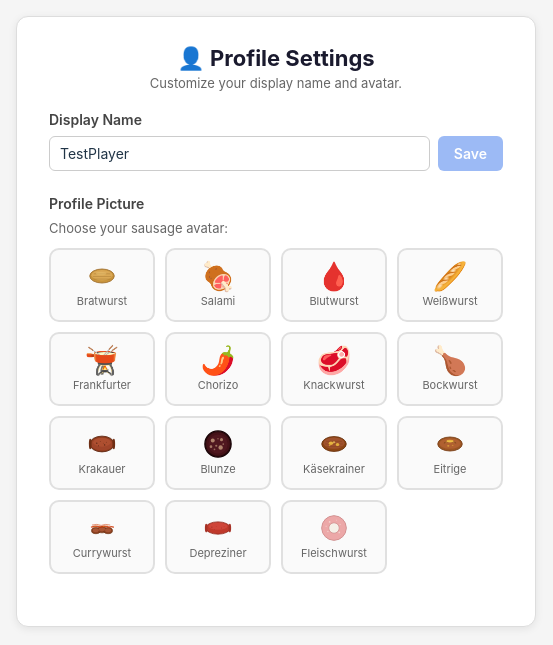
Test: ProfileSettingsScreen › enables save button after editing the name
The image size is (553, 645).
Replace the text in the field named "display name" with "NewName" at (239, 154), box x1=49 y1=136 x2=430 y2=171
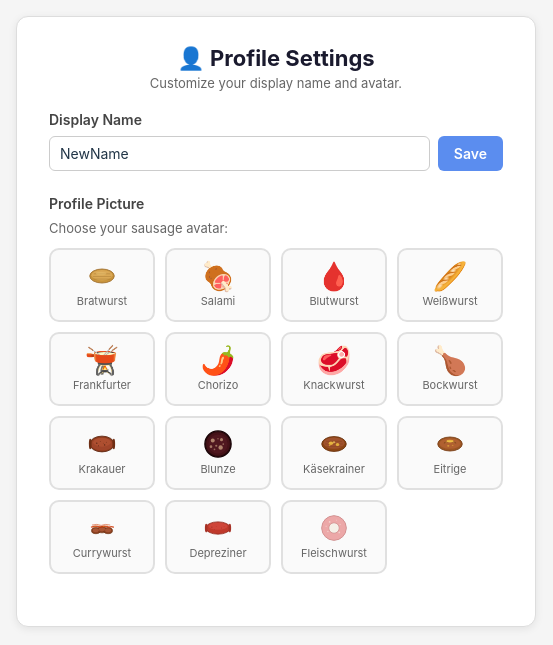
Expected: the button "Save" is enabled, x1=438 y1=136 x2=503 y2=171
